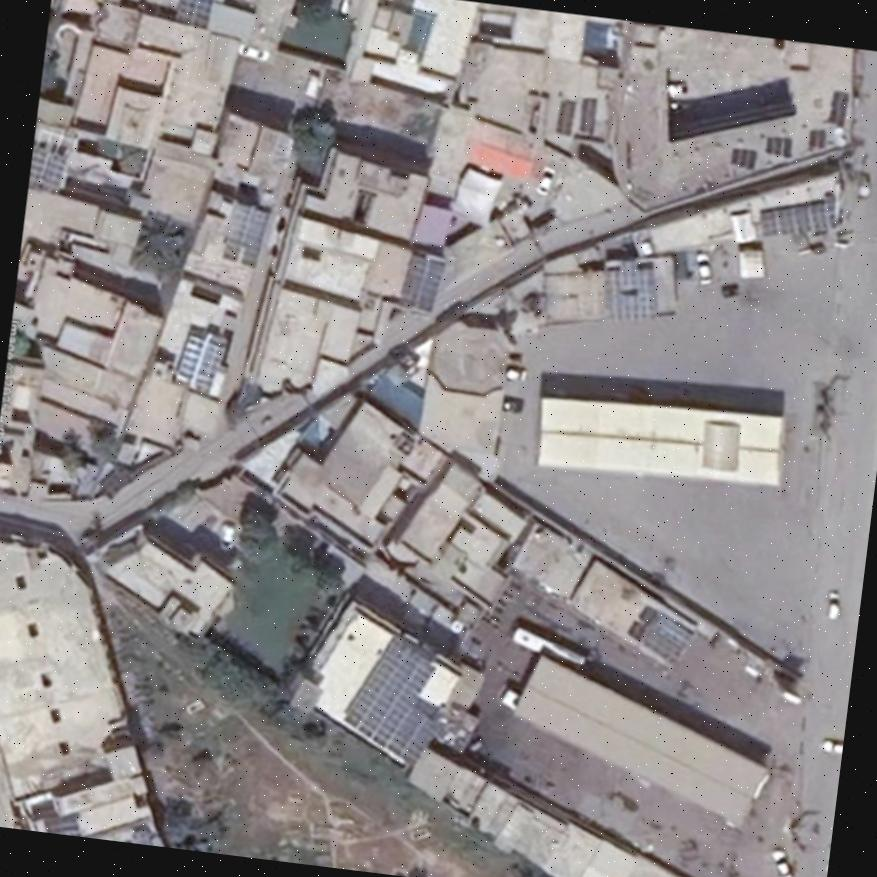Solarpanel: (343, 632, 464, 765), (172, 334, 223, 396), (222, 201, 268, 267), (762, 196, 827, 236), (399, 254, 444, 310), (611, 267, 654, 319), (29, 144, 64, 192), (177, 0, 209, 26), (828, 91, 849, 128), (557, 99, 574, 136), (730, 147, 757, 169), (579, 98, 598, 129), (766, 137, 791, 157), (808, 129, 827, 149)
